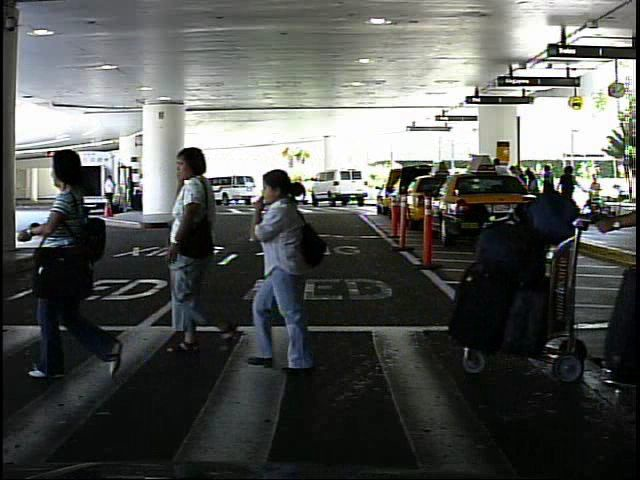person: (24, 134, 123, 382), (232, 160, 331, 381), (154, 138, 246, 360), (586, 172, 606, 218), (100, 172, 118, 222), (259, 178, 270, 204)
